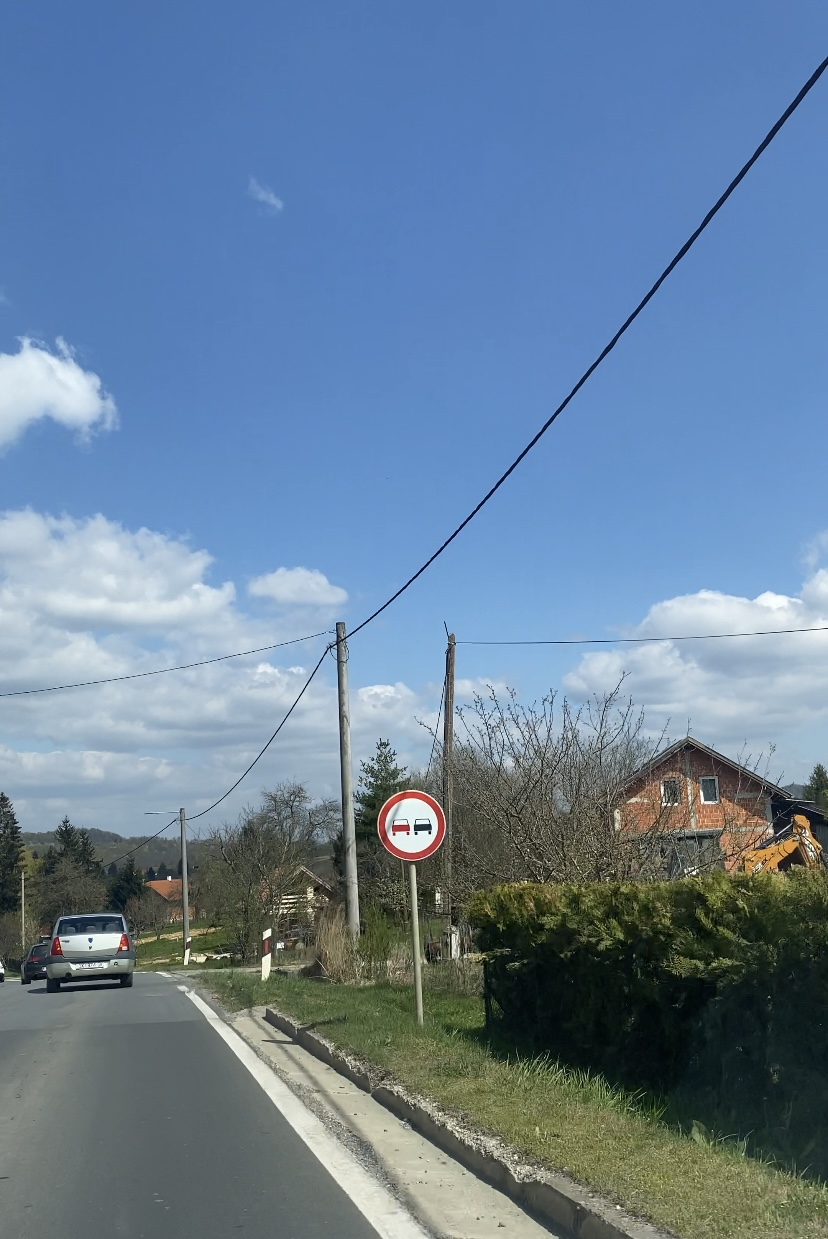Zabrana pretjecanja: (377, 790, 446, 862)
